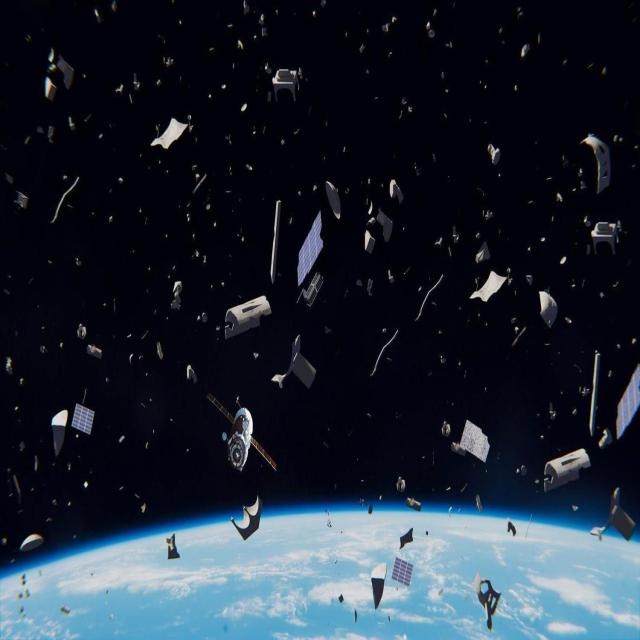large_debris: (183, 201, 218, 264), (227, 1, 268, 54), (116, 72, 142, 107), (17, 572, 32, 619), (126, 331, 138, 369), (44, 495, 59, 525), (426, 7, 438, 37), (399, 97, 412, 120), (324, 510, 335, 535), (15, 189, 27, 211), (382, 16, 398, 32), (162, 52, 175, 68), (109, 609, 119, 625), (197, 310, 207, 325), (96, 128, 104, 144), (240, 100, 250, 112), (298, 67, 307, 80), (243, 162, 253, 173), (141, 328, 149, 341), (359, 41, 366, 55), (224, 132, 232, 144), (479, 78, 487, 90), (355, 278, 364, 288), (446, 38, 454, 49), (583, 214, 590, 226), (19, 438, 25, 452), (1, 536, 7, 549), (440, 353, 446, 365), (518, 7, 523, 20), (288, 214, 293, 226), (343, 288, 349, 298), (528, 195, 533, 206), (345, 186, 351, 195), (546, 174, 552, 183), (117, 176, 123, 185), (252, 125, 257, 135), (342, 143, 347, 153), (537, 33, 541, 45), (386, 356, 392, 364), (438, 328, 444, 336), (514, 83, 519, 92), (313, 183, 318, 192), (294, 126, 299, 134), (321, 0, 326, 8), (440, 71, 444, 81), (432, 153, 436, 163), (297, 189, 302, 197), (334, 556, 338, 566), (443, 111, 447, 120), (388, 51, 393, 58), (382, 327, 387, 334), (222, 82, 226, 90), (312, 10, 316, 18), (499, 26, 503, 34), (535, 478, 540, 484), (280, 138, 284, 145), (368, 178, 372, 185), (263, 125, 266, 134), (209, 47, 214, 52), (208, 93, 212, 99), (445, 89, 449, 95), (232, 63, 235, 69), (276, 9, 279, 15), (540, 433, 543, 439), (446, 486, 450, 490), (422, 455, 426, 459), (433, 451, 434, 464), (558, 448, 561, 452)
